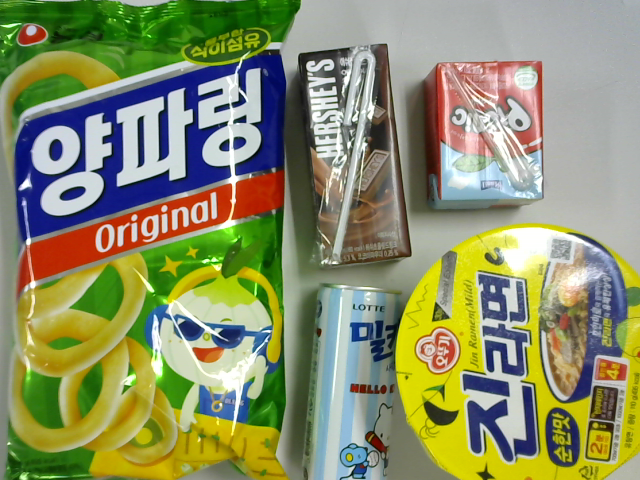Hush_Choco_Drink: (292, 34, 421, 276)
Jinlamyeon_Mild_Taste_Large_Cup: (399, 236, 640, 473)
Milkies_250ml: (294, 274, 412, 480)
Oninon_Ring: (2, 1, 295, 475)
Picnic_Apple: (411, 52, 554, 213)
